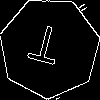T: (24, 22, 64, 75)
